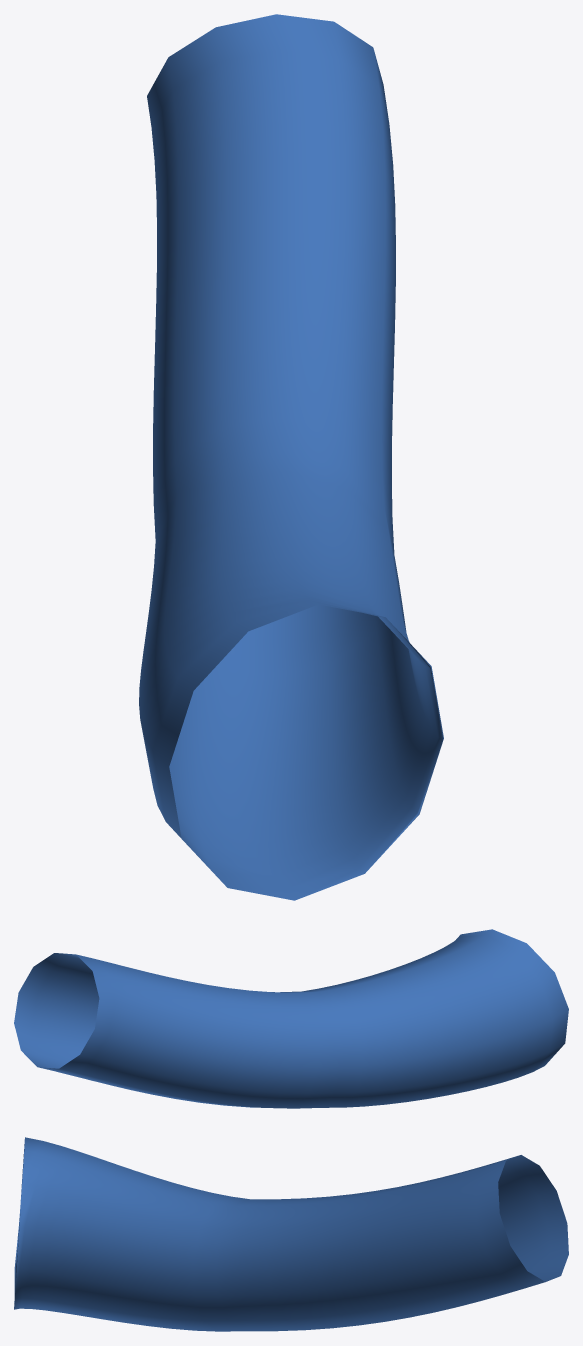
3 renders of one model, top to bottom at view 1: azimuth 30°, elevation 25°; view 2: azimuth 150°, elevation 25°; view 3: azimuth 270°, elevation 25°, orthographic. The views are drawn at different scales.
Visible parts, largest first — view 1: 左侧髂总静脉; view 2: 左侧髂总静脉; view 3: 左侧髂总静脉.
Boxes of the visible parts, x1=… form: 左侧髂总静脉: x1=139, y1=14, x2=443, y2=900; 左侧髂总静脉: x1=14, y1=929, x2=568, y2=1108; 左侧髂总静脉: x1=14, y1=1137, x2=568, y2=1331.
Bounding box in the file's own units: 0.0606 × 0.0401 × 0.0804.
